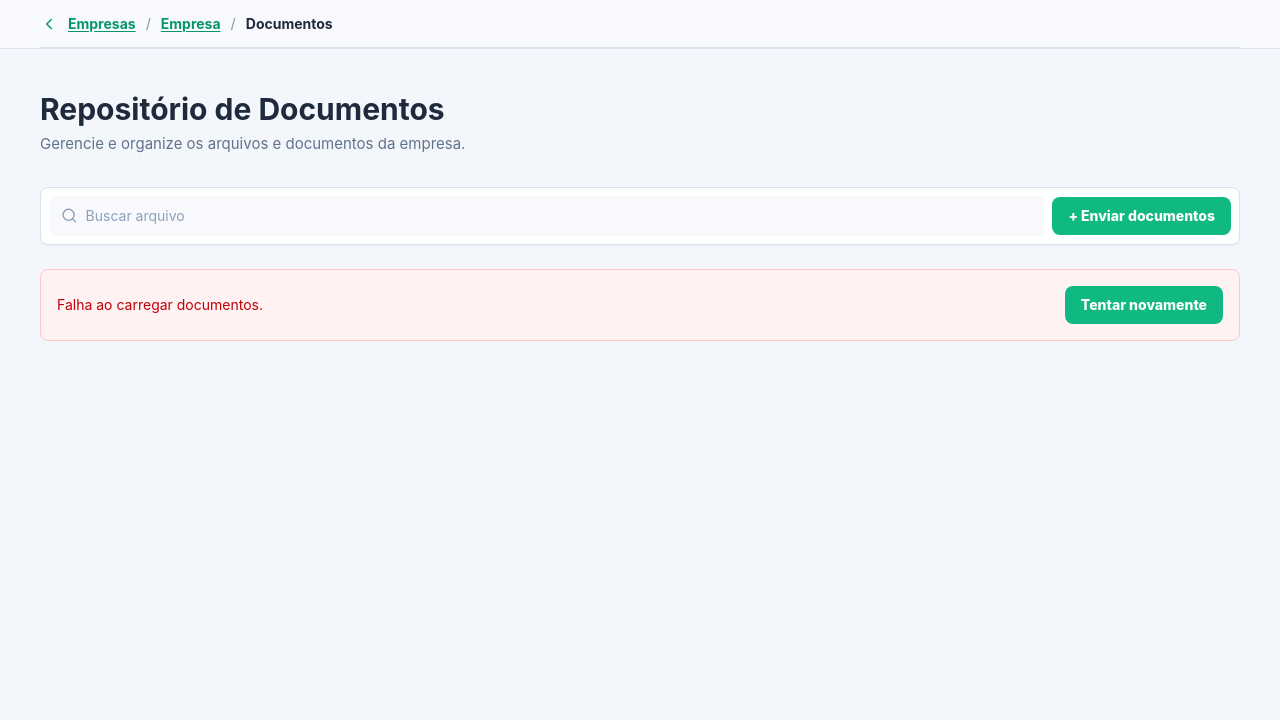
CompanyDocumentsPage › shows an API error and allows retrying the listing
Expected: the text "Falha ao carregar documentos." is shown, [57,295,263,315]
Click the button "Tentar novamente". click: [1144, 305]
box: [1065,286,1223,324]
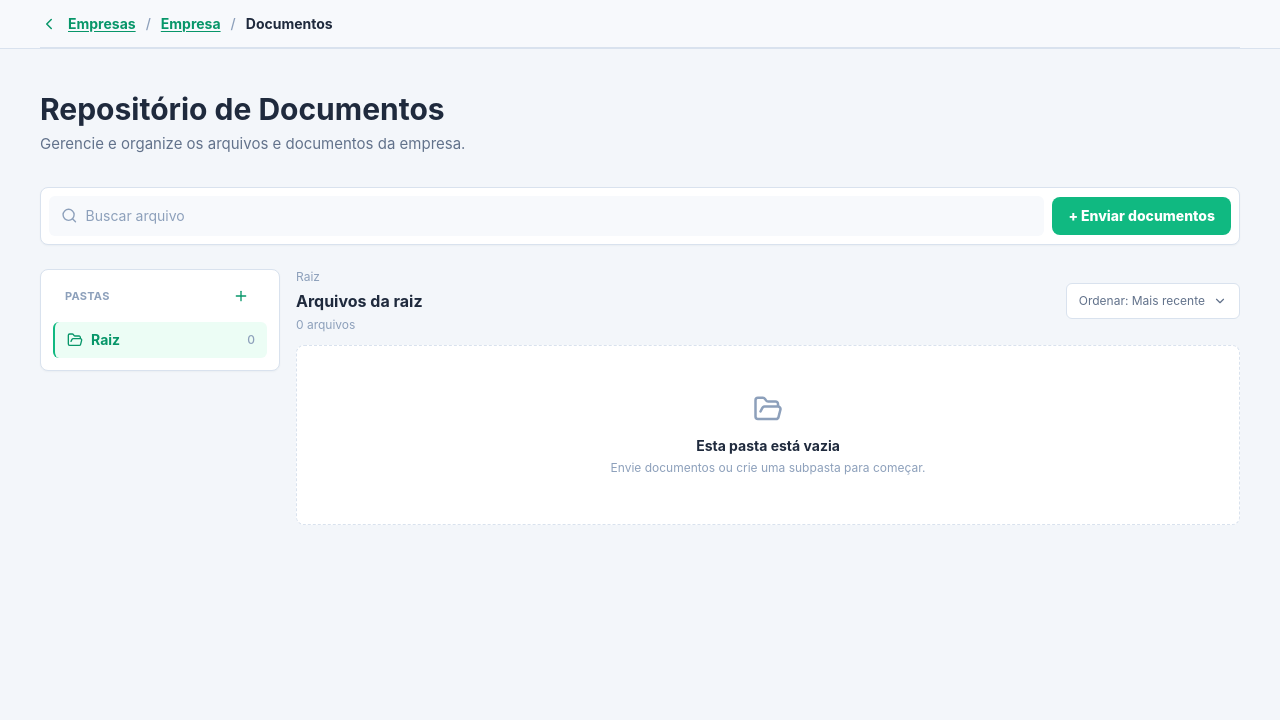
Now the text "Esta pasta está vazia" is shown, box [696,437,840,454]
